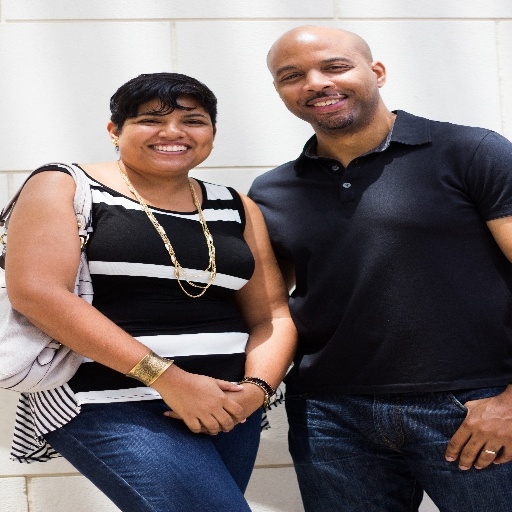hand: (441, 391, 511, 472), (159, 382, 264, 432)
